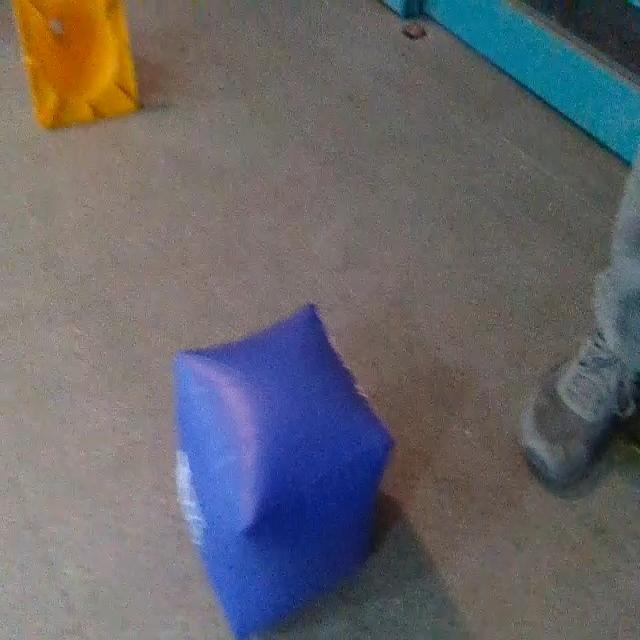cone: (10, 0, 146, 130)
cube: (169, 298, 390, 640)
